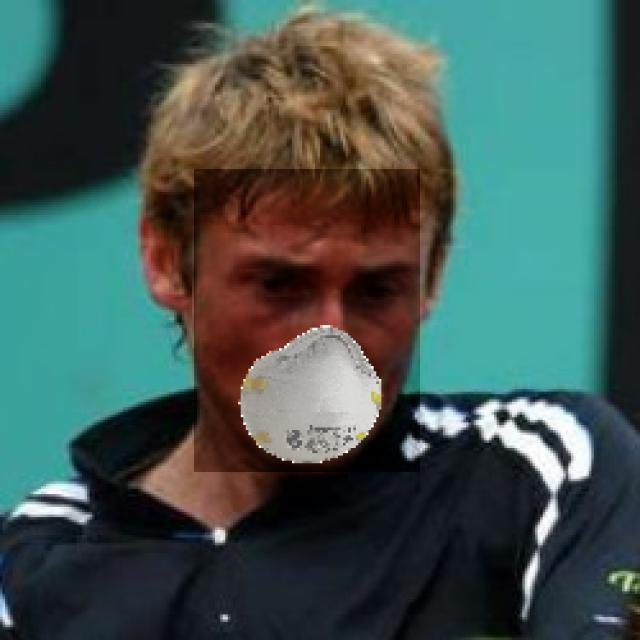n95: (194, 169, 420, 472)
